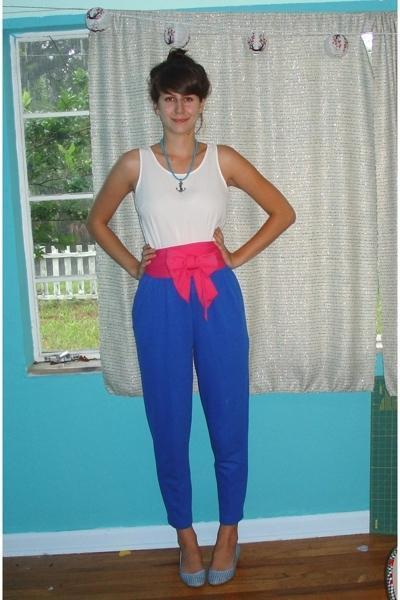pants: (132, 266, 248, 530)
shirt: (121, 147, 228, 248)
shoe: (180, 557, 233, 585)
